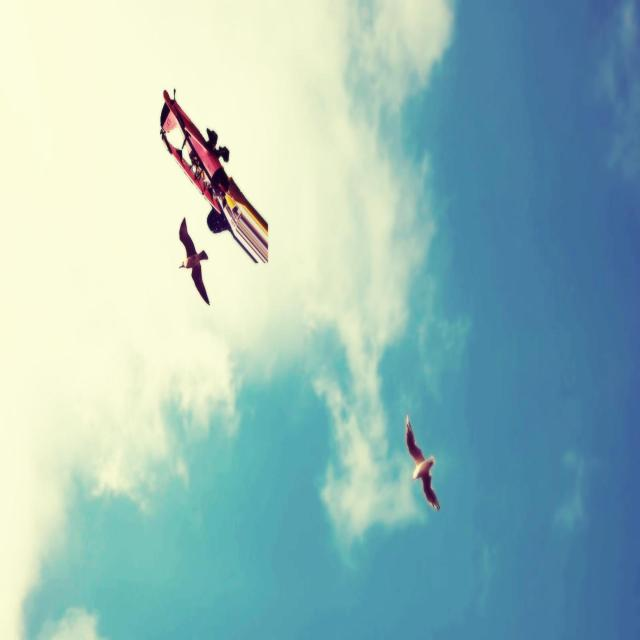airplane: (159, 86, 269, 265)
